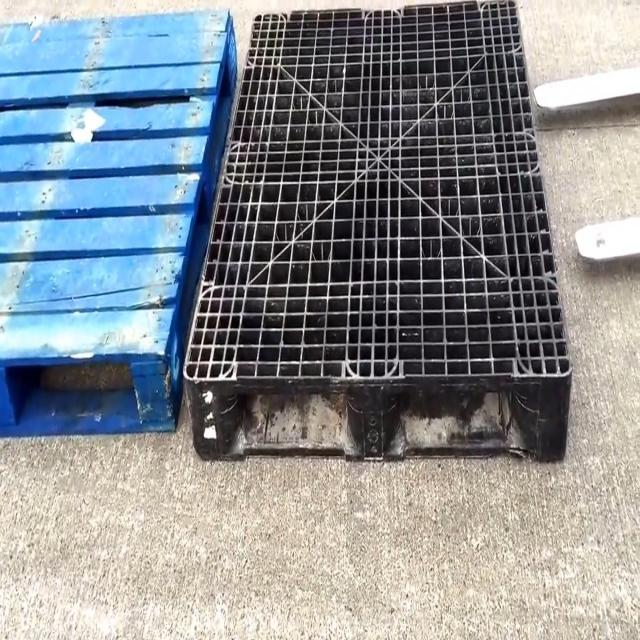Palette: (179, 0, 573, 462), (0, 12, 238, 460)
